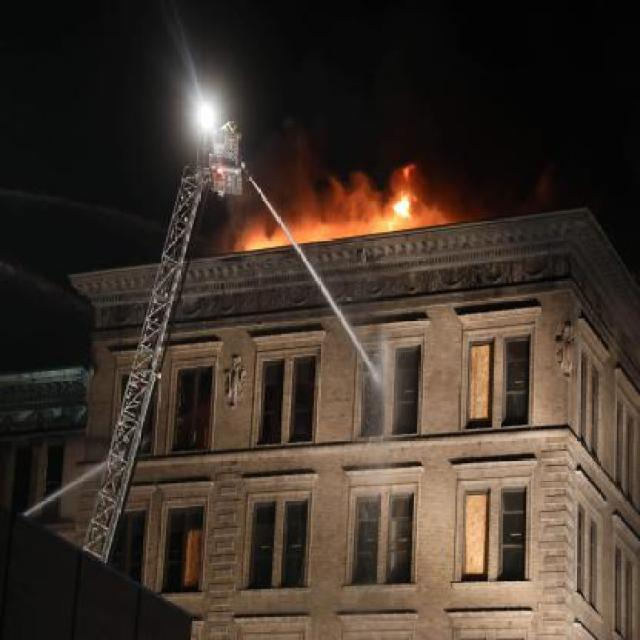Fire: (230, 172, 472, 250)
